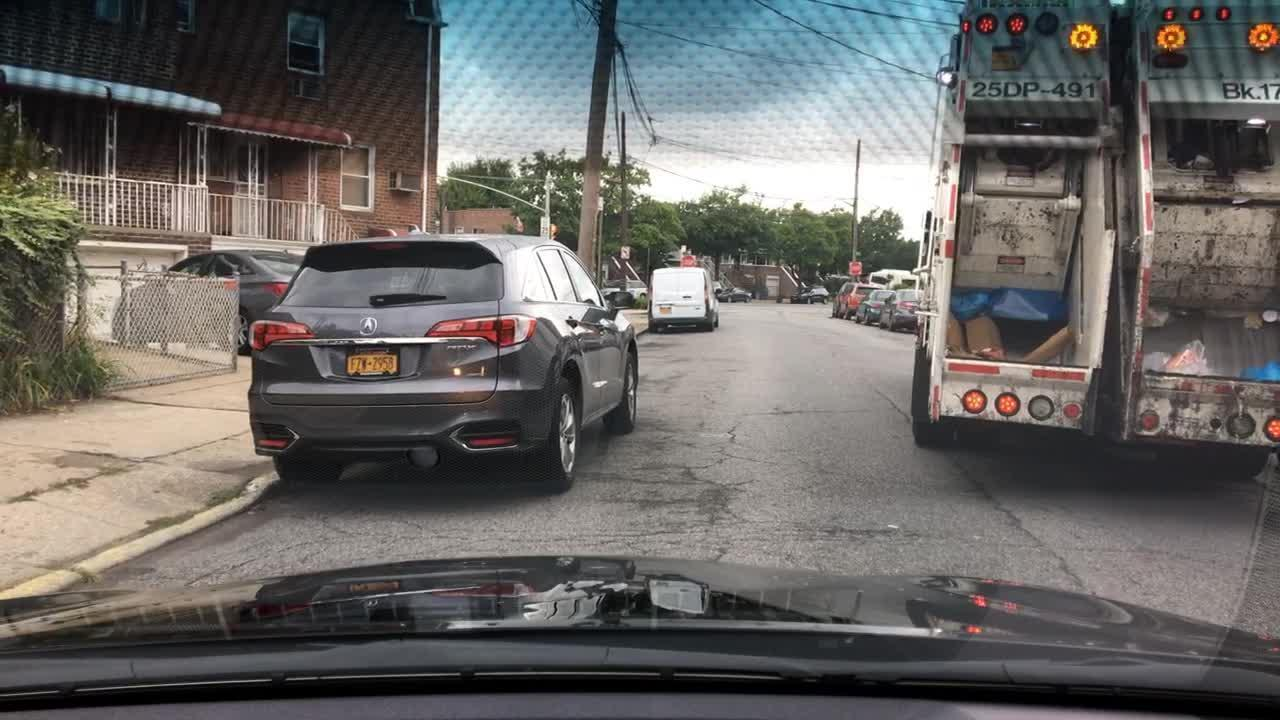acura: (356, 313, 379, 338)
